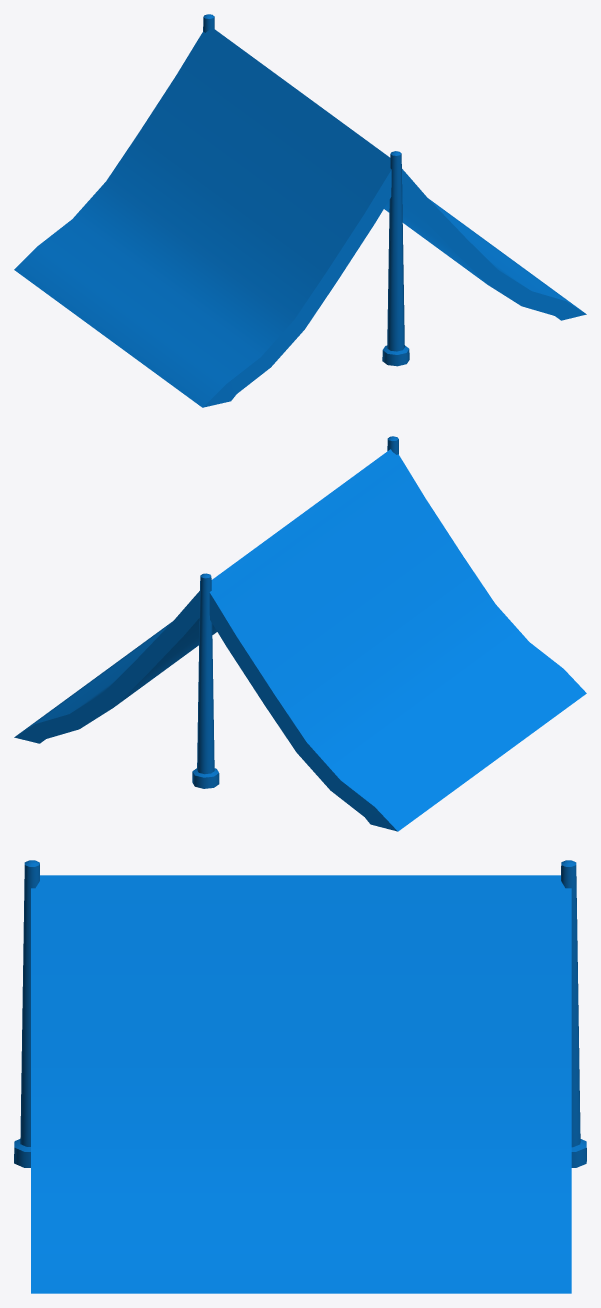
Rendered from TentMesh.fbx.
3 views of the same model, one above another, from view 1: azimuth 30°, elevation 25°; view 2: azimuth 150°, elevation 25°; view 3: azimuth 270°, elevation 25° (orthographic). The views are drawn at different scales.
Visible parts, largest first — view 1: TentMesh; view 2: TentMesh; view 3: TentMesh.
Part boxes in pixels (x1,y1,x2,y2): TentMesh: [14, 14, 586, 407]; TentMesh: [14, 436, 586, 831]; TentMesh: [14, 860, 586, 1293].
Size of the model in its own units: 5.02 by 2.61 by 4.53.
